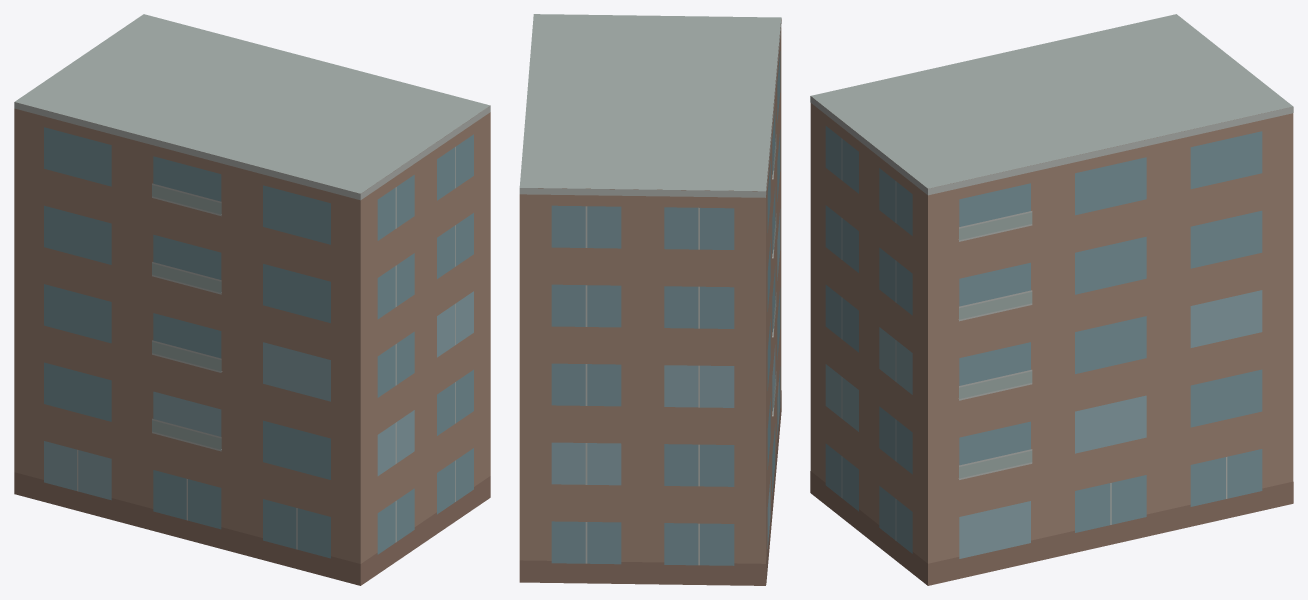
File: survey-upis-32885851.glb
3 views of the same model, side by side, from view 1: azimuth 30°, elevation 25°; view 2: azimuth 150°, elevation 25°; view 3: azimuth 270°, elevation 25° (orthographic).
Parts seen in each view (by area): view 1: survey-upis-32885851.tmp; view 2: survey-upis-32885851.tmp; view 3: survey-upis-32885851.tmp.
Part boxes in pixels (x1,y1,x2,y2): survey-upis-32885851.tmp: (14, 14, 490, 585); survey-upis-32885851.tmp: (519, 14, 781, 585); survey-upis-32885851.tmp: (810, 14, 1293, 585).
Bounding box in the file's own units: 13.79 × 14.6 × 16.1.
